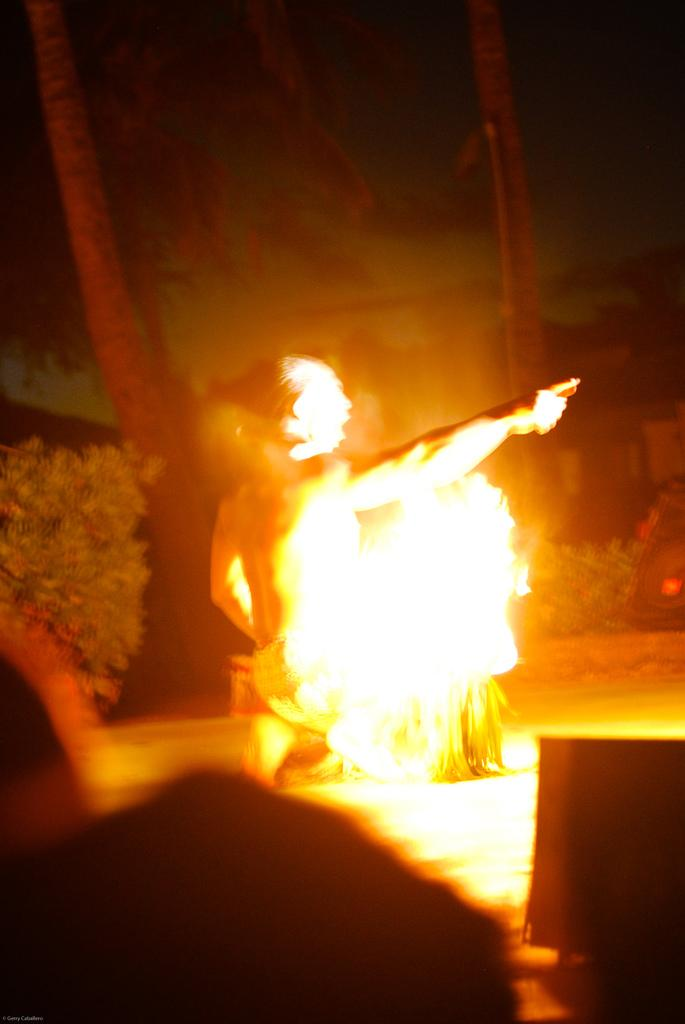fire: (320, 488, 497, 758)
